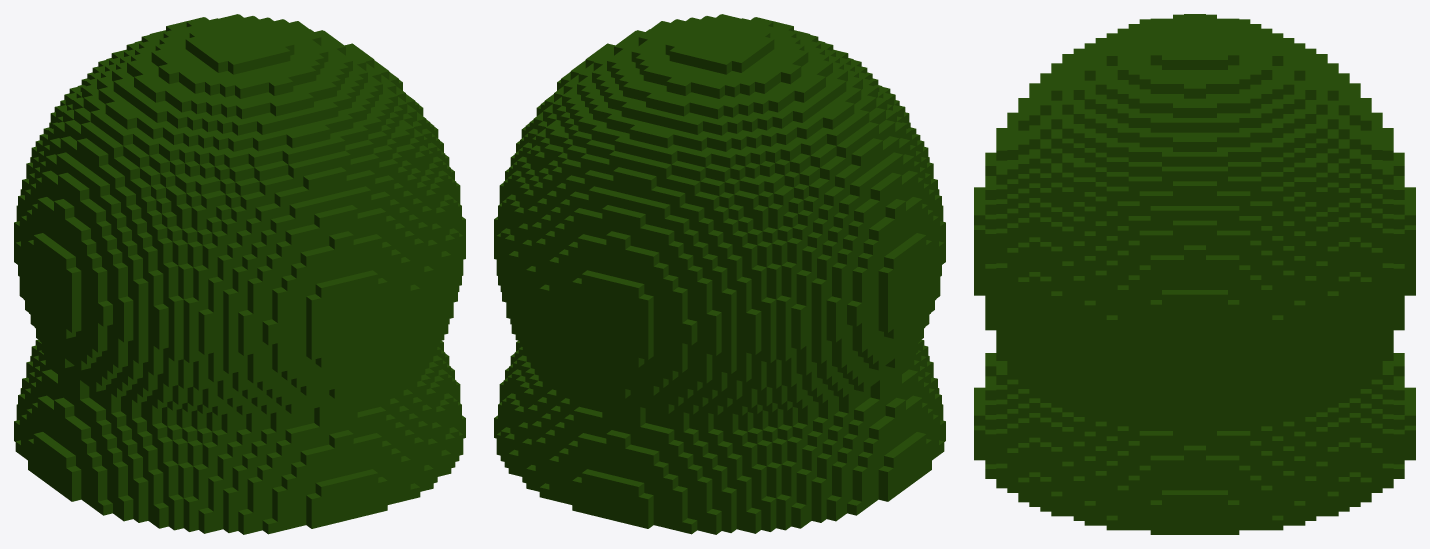
File: Bush.obj
3 renders of one model, left to right at view 1: azimuth 30°, elevation 25°; view 2: azimuth 150°, elevation 25°; view 3: azimuth 270°, elevation 25°, orthographic.
Size of the model in its own units: 4 by 4 by 4.
